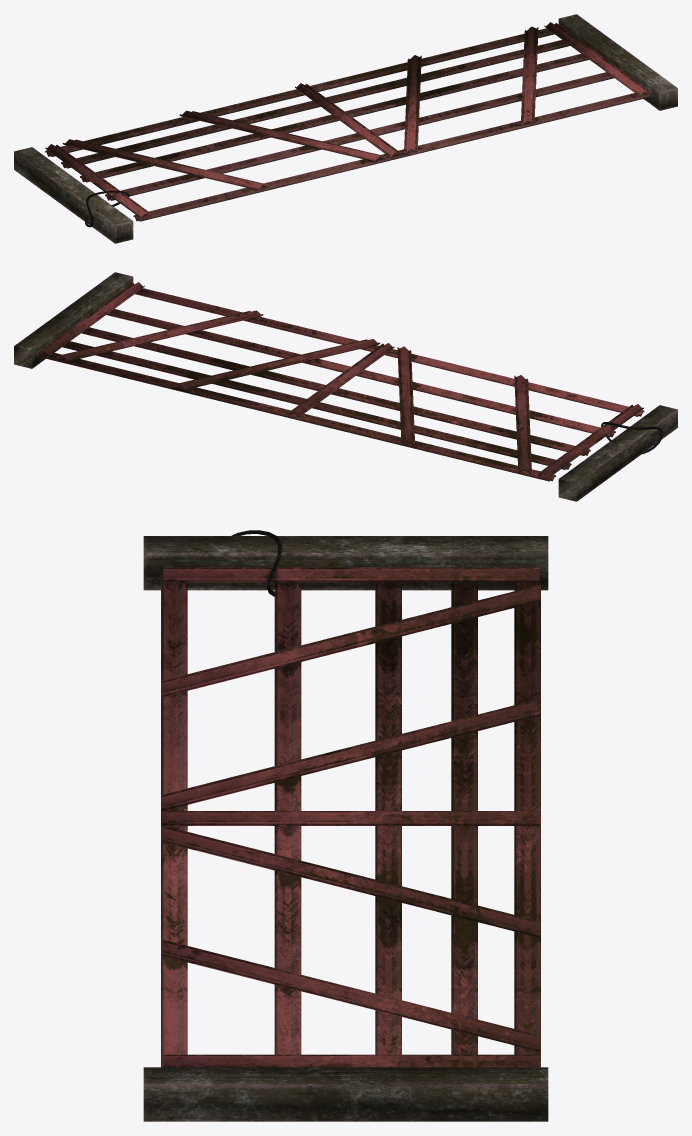
File: FarmGate.obj
3 renders of one model, top to bottom at view 1: azimuth 30°, elevation 25°; view 2: azimuth 150°, elevation 25°; view 3: azimuth 270°, elevation 25°, orthographic. The views are drawn at different scales.
Visible parts, largest first — view 1: FarmGate; view 2: FarmGate; view 3: FarmGate.
Boxes of the visible parts, x1,y1,x2,y2 form: FarmGate: (14,14,677,243); FarmGate: (14,272,677,501); FarmGate: (143,530,548,1121).
Bounding box in the file's own units: 4.96 × 0.2136 × 1.52.
Materials: 1 (1 with a texture image).
